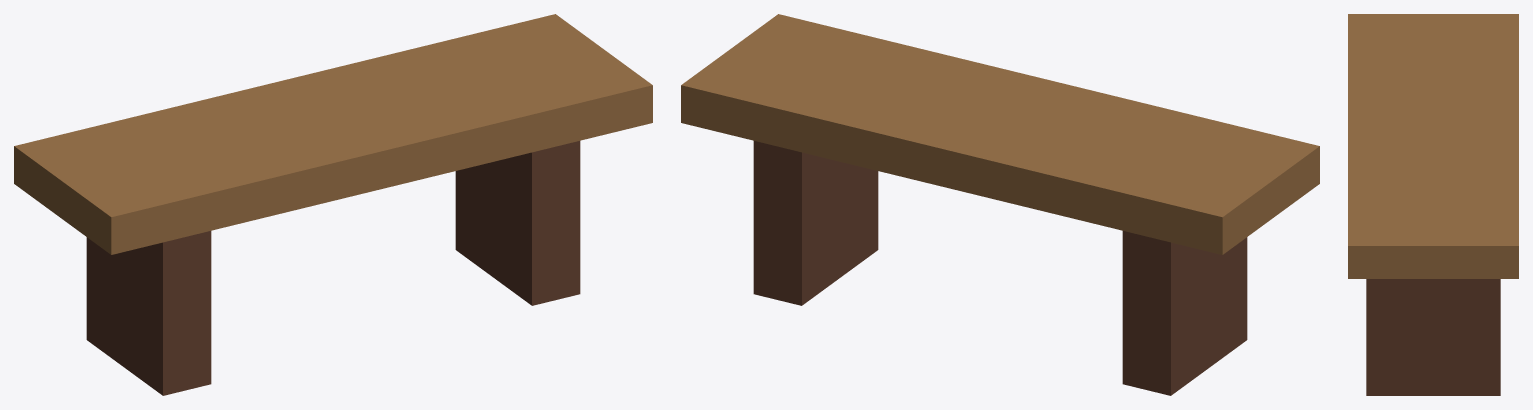
3 renders of one model, left to right at view 1: azimuth 30°, elevation 25°; view 2: azimuth 150°, elevation 25°; view 3: azimuth 270°, elevation 25°, orthographic. The views are drawn at different scales.
Visible parts, largest first — view 1: C07_木板长凳; view 2: C07_木板长凳; view 3: C07_木板长凳.
Boxes of the visible parts, x1,y1,x2,y2 form: C07_木板长凳: [14, 14, 652, 395]; C07_木板长凳: [681, 14, 1319, 395]; C07_木板长凳: [1348, 14, 1518, 395].
Bounding box in the file's own units: 1.35 × 0.48 × 0.42.
